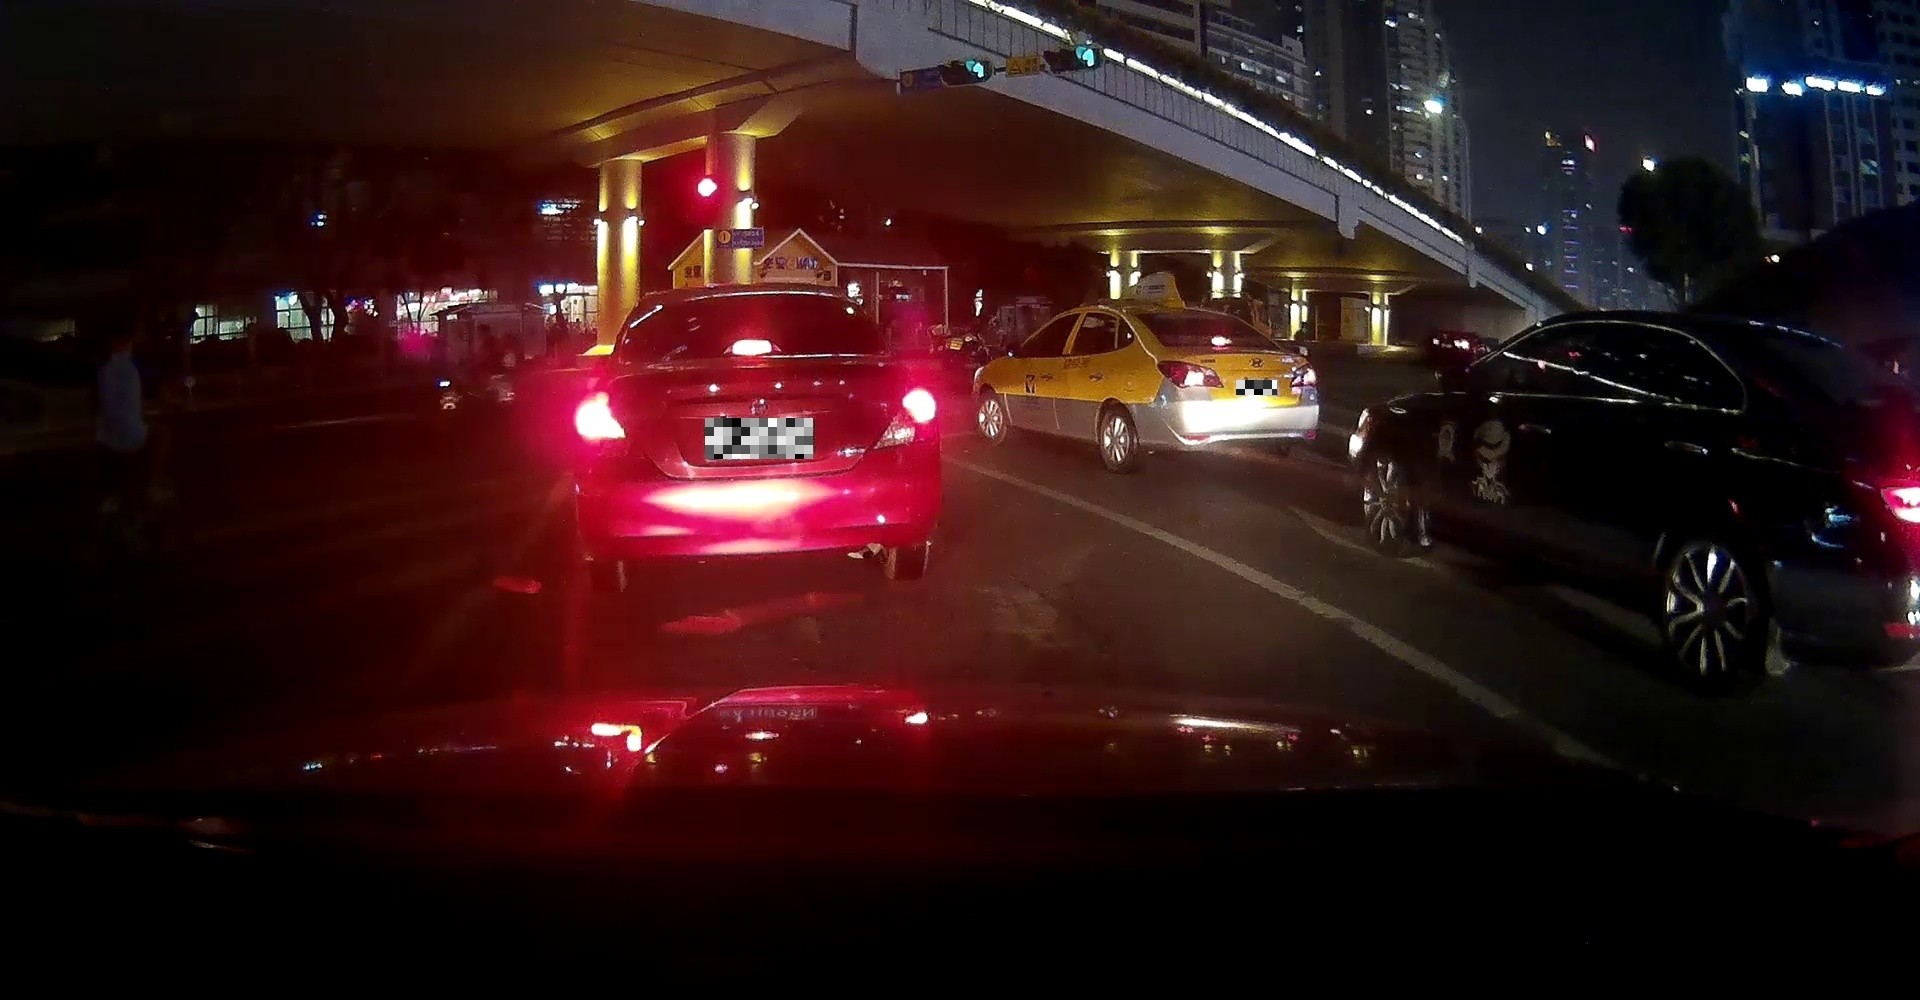L_light: (582, 398, 641, 458), (1157, 360, 1224, 390)
R_light: (872, 388, 935, 449), (1290, 363, 1316, 387)
T_light: (731, 340, 771, 355), (1211, 338, 1233, 345)
night-brake: (577, 286, 941, 596), (1119, 305, 1319, 475)
plate_1: (705, 418, 813, 459)
plate_2: (1236, 379, 1277, 395)
